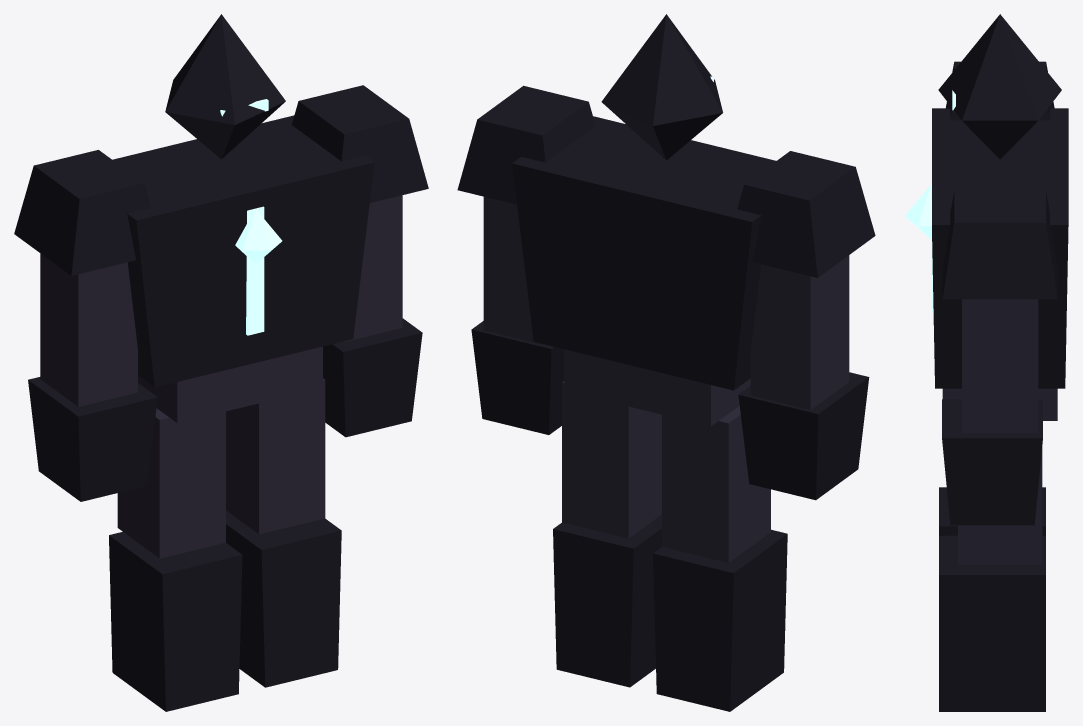
File: SentinelaVidro.fbx
3 views of the same model, side by side, from view 1: azimuth 30°, elevation 25°; view 2: azimuth 150°, elevation 25°; view 3: azimuth 270°, elevation 25° (orthographic).
Parts seen in each view (by area): view 1: Body, ArmR, LegR, LegL, ArmL, Head; view 2: Body, ArmR, LegR, LegL, ArmL, Head; view 3: ArmL, LegL, Body, Head, LegR, ArmR.
Boxes of the visible parts, left/top/right/bottom form: Body: left=112, top=115, right=374, bottom=423; ArmR: left=14, top=150, right=157, bottom=501; LegR: left=109, top=408, right=242, bottom=711; LegL: left=226, top=378, right=341, bottom=687; ArmL: left=291, top=85, right=428, bottom=437; Head: left=165, top=14, right=285, bottom=159; Body: left=512, top=116, right=775, bottom=426; ArmR: left=737, top=151, right=875, bottom=500; LegR: left=653, top=406, right=787, bottom=711; LegL: left=553, top=381, right=661, bottom=687; ArmL: left=457, top=85, right=595, bottom=434; Head: left=601, top=14, right=722, bottom=160; ArmL: left=942, top=191, right=1057, bottom=525; LegL: left=939, top=448, right=1045, bottom=711; Body: left=904, top=108, right=1068, bottom=420; Head: left=938, top=14, right=1061, bottom=159; LegR: left=939, top=487, right=1045, bottom=535; ArmR: left=946, top=61, right=1054, bottom=120.
Bounding box in the file's own units: 1.08 × 1.89 × 0.4285.
